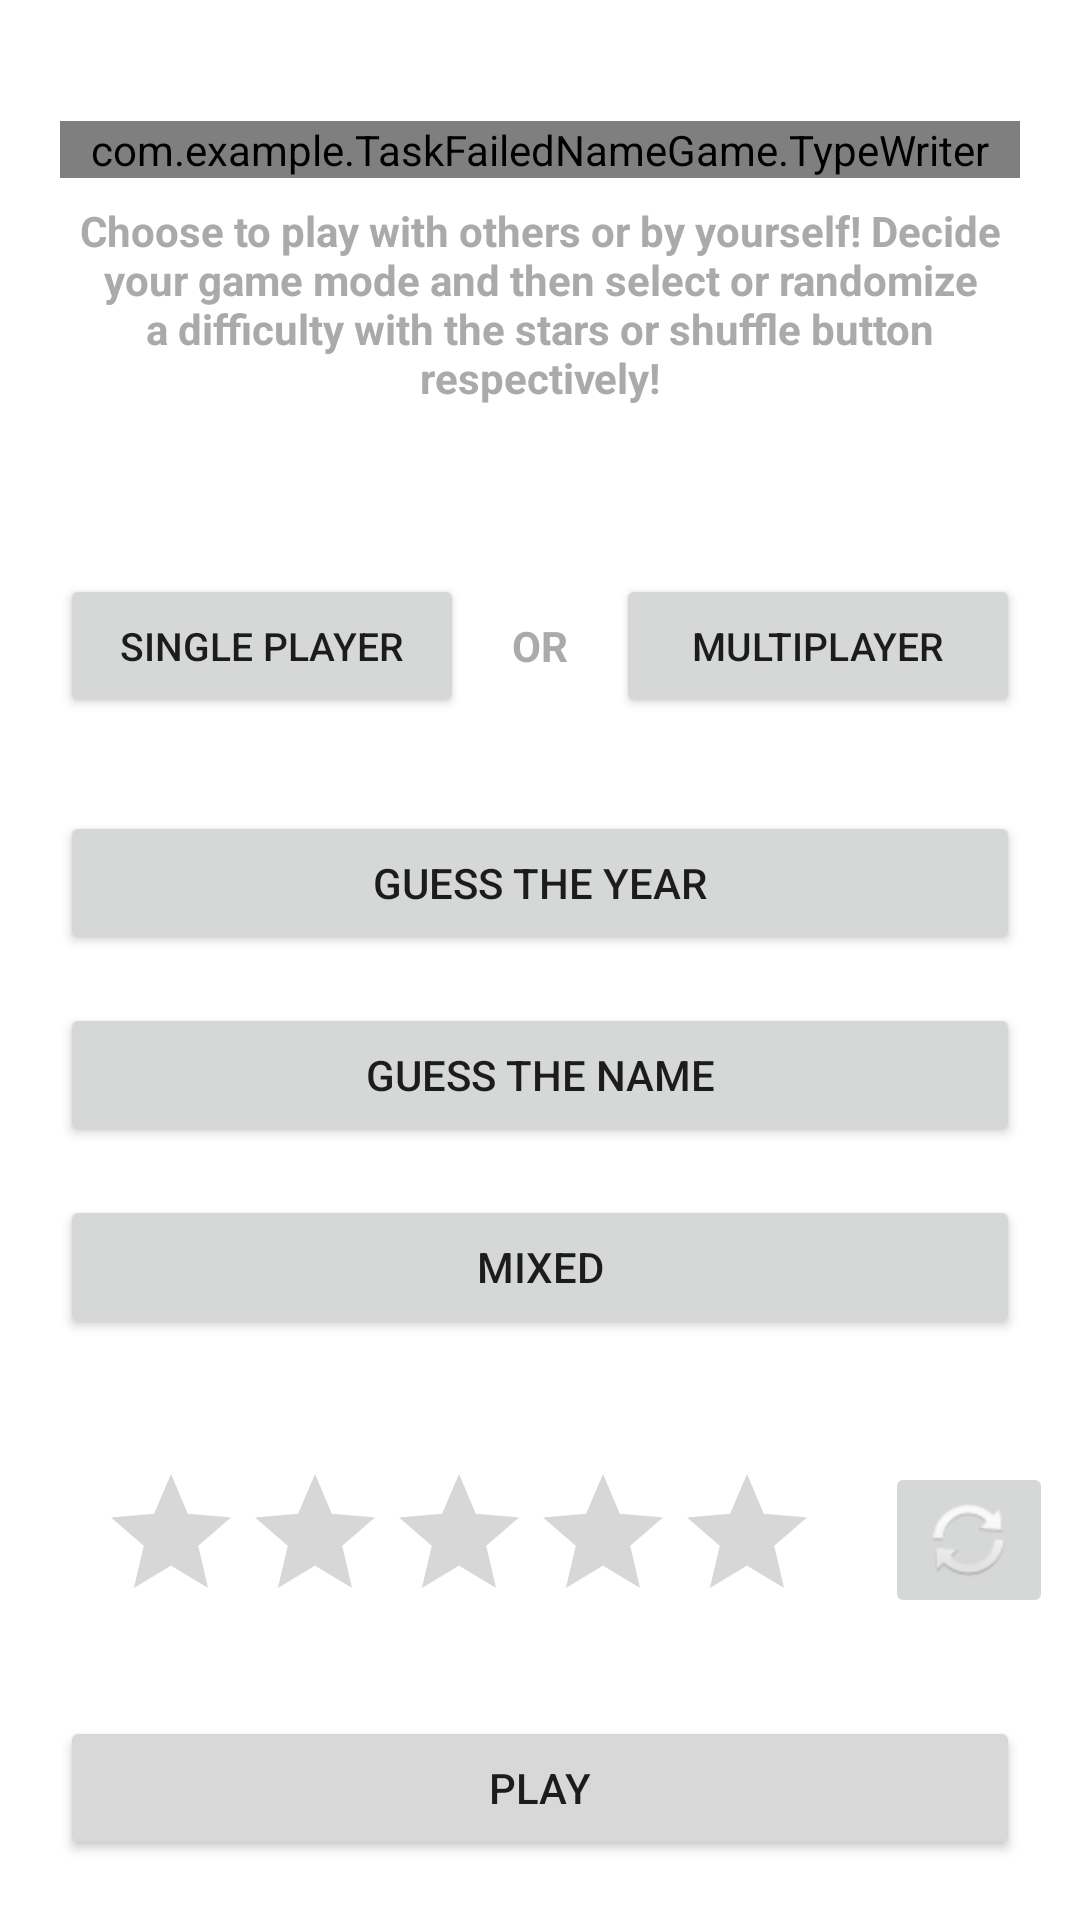

Screen size 1080×1920. Icon name, then its box in pixels as Rect(x1, y1, x2, y2):
popup sync: Rect(897, 1480, 1041, 1600)
